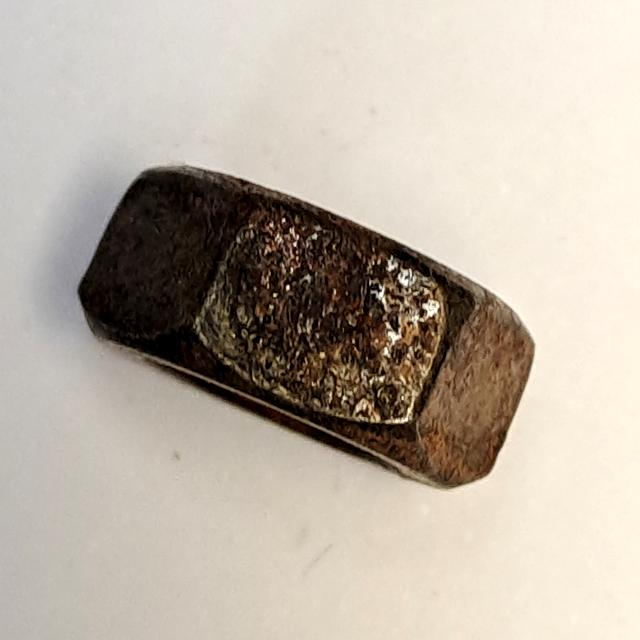Side_Rust: (64, 154, 570, 524)
